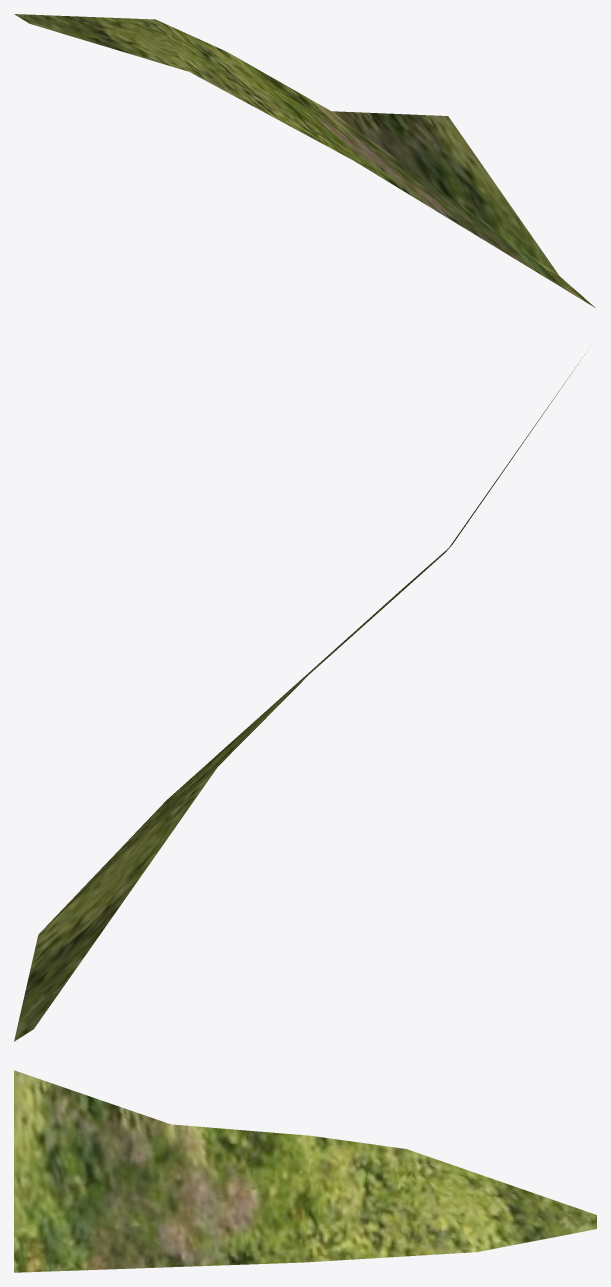
3 views of the same model, one above another, from view 1: azimuth 30°, elevation 25°; view 2: azimuth 150°, elevation 25°; view 3: azimuth 270°, elevation 25° (orthographic). The views are drawn at different scales.
Size of the model in its own units: 1.17 by 1.72 by 5.9.
1 material, 1 textured.
